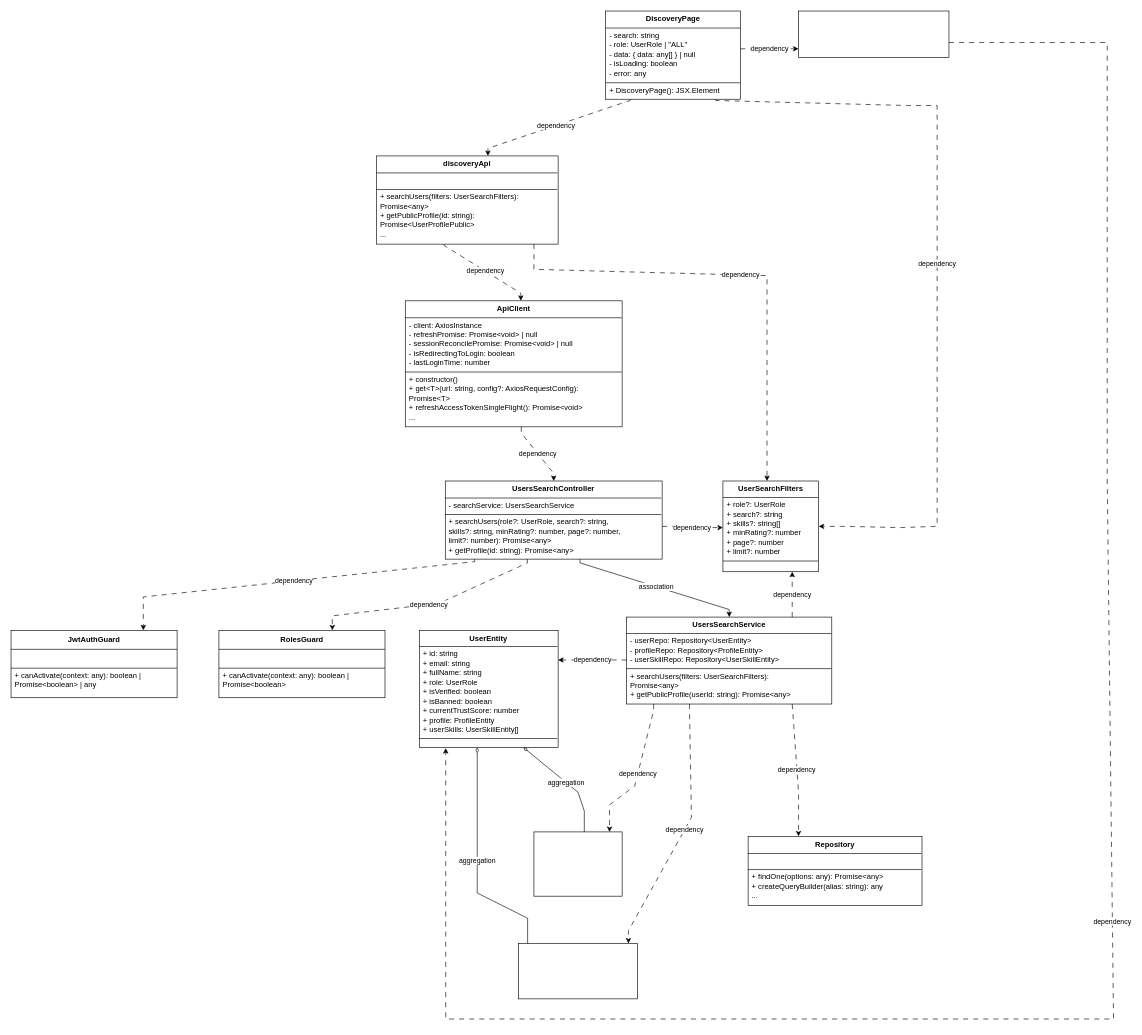
The diagram is 1142 pixels wide and 1035 high, and some of its shapes have lost their labels. Here are the shapes that lost their labels. From the top down, the centre of each, then its label:
(873,34): UserCard + UserCard(user: any): JSX.Element
(577,863): UserSkillEntity + id: string + userId: string + skillId: string
(578,971): ProfileEntity + avatarUrl: string | null + bio: string | null
